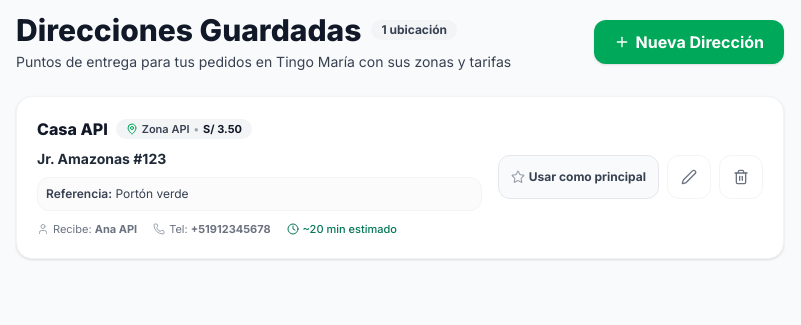
Test: Formulario original de dirección con API › solo marca la dirección principal después de confirmación del servidor
The width and height of the screenshot is (801, 325).
What coordinates should you click on to do the following:
click the button "Usar como principal"
I would click on:
 (578, 177)
Its box is [498, 155, 659, 199].
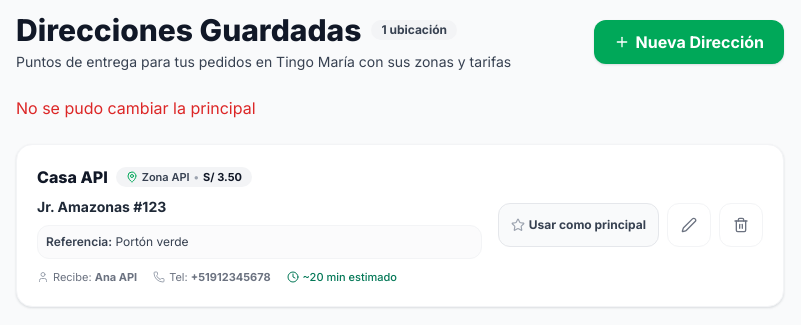
Expected: the button "Usar como principal" is shown, [498, 203, 659, 247]
Expected: the message reads "No se pudo cambiar la principal", [16, 98, 256, 118]
